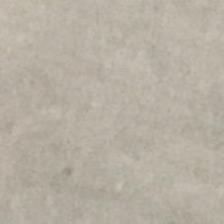Non_Crack: (28, 25, 200, 169)
